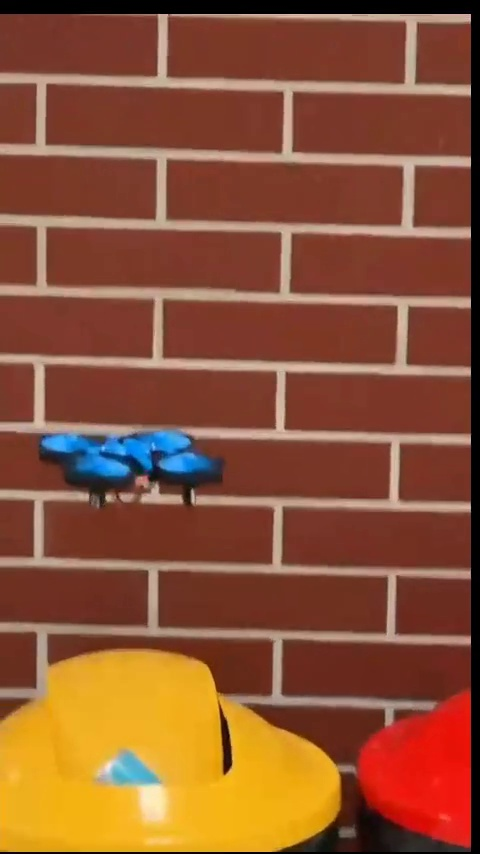drone: (30, 416, 216, 492)
